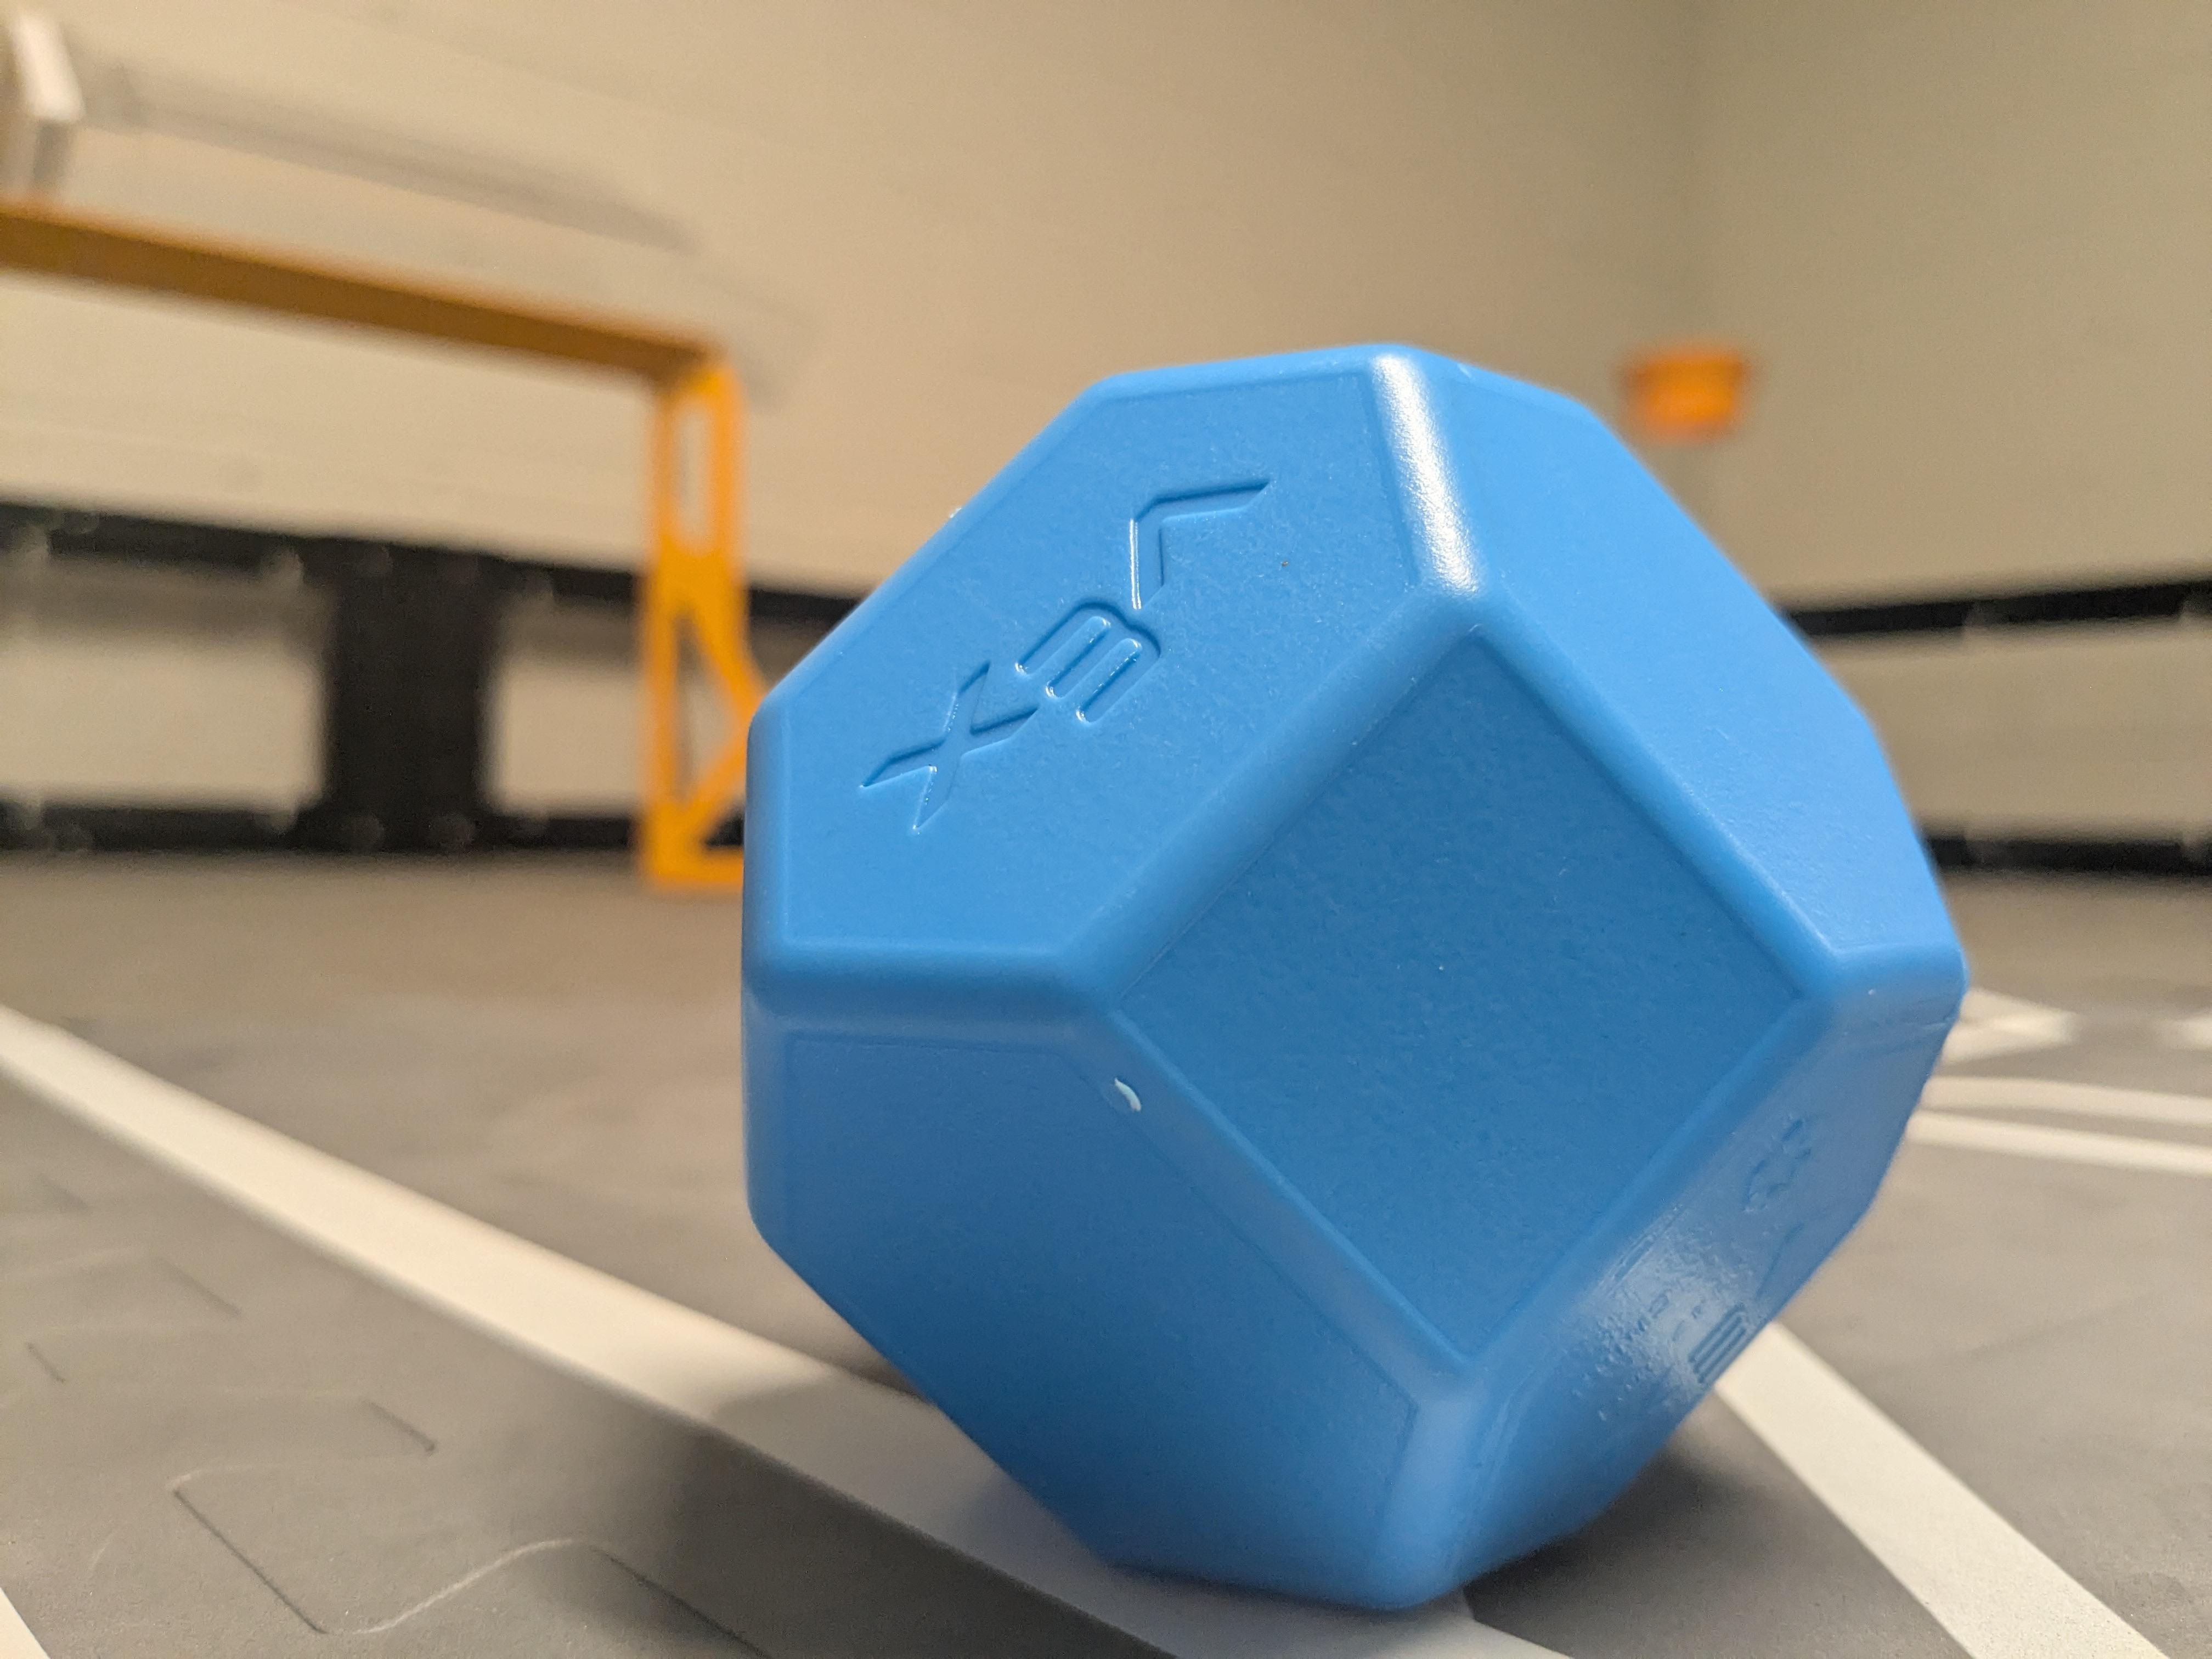Vex-Pieces-BLUE: (742, 347, 1965, 1610)
